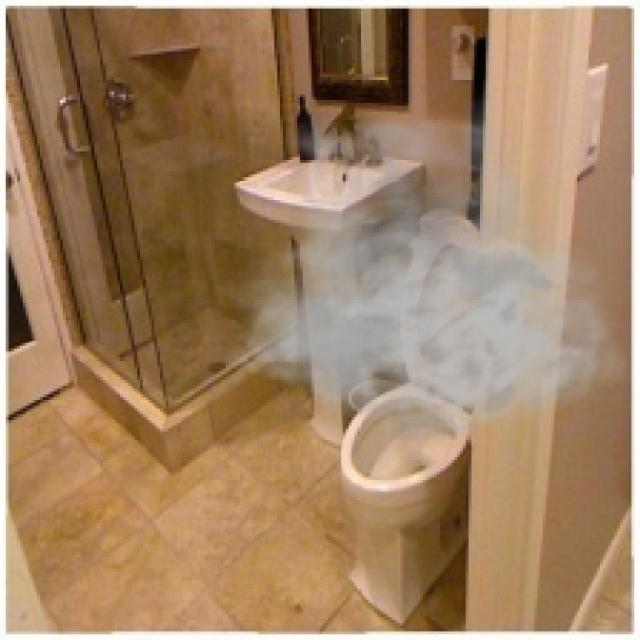Smoke: (206, 86, 632, 440)
